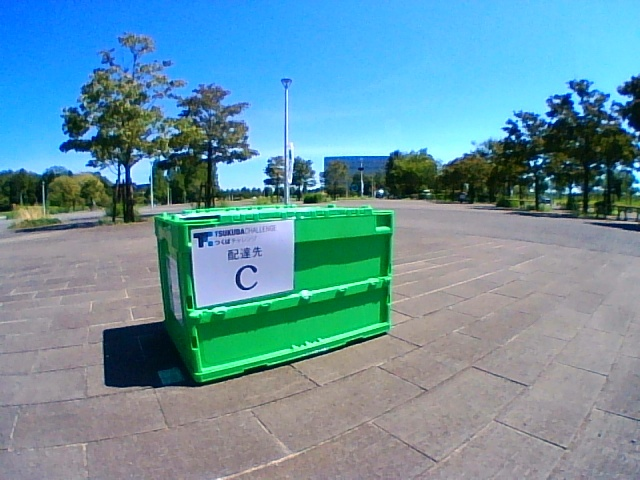green_box: (155, 205, 394, 382)
tag_c: (206, 229, 294, 293)
